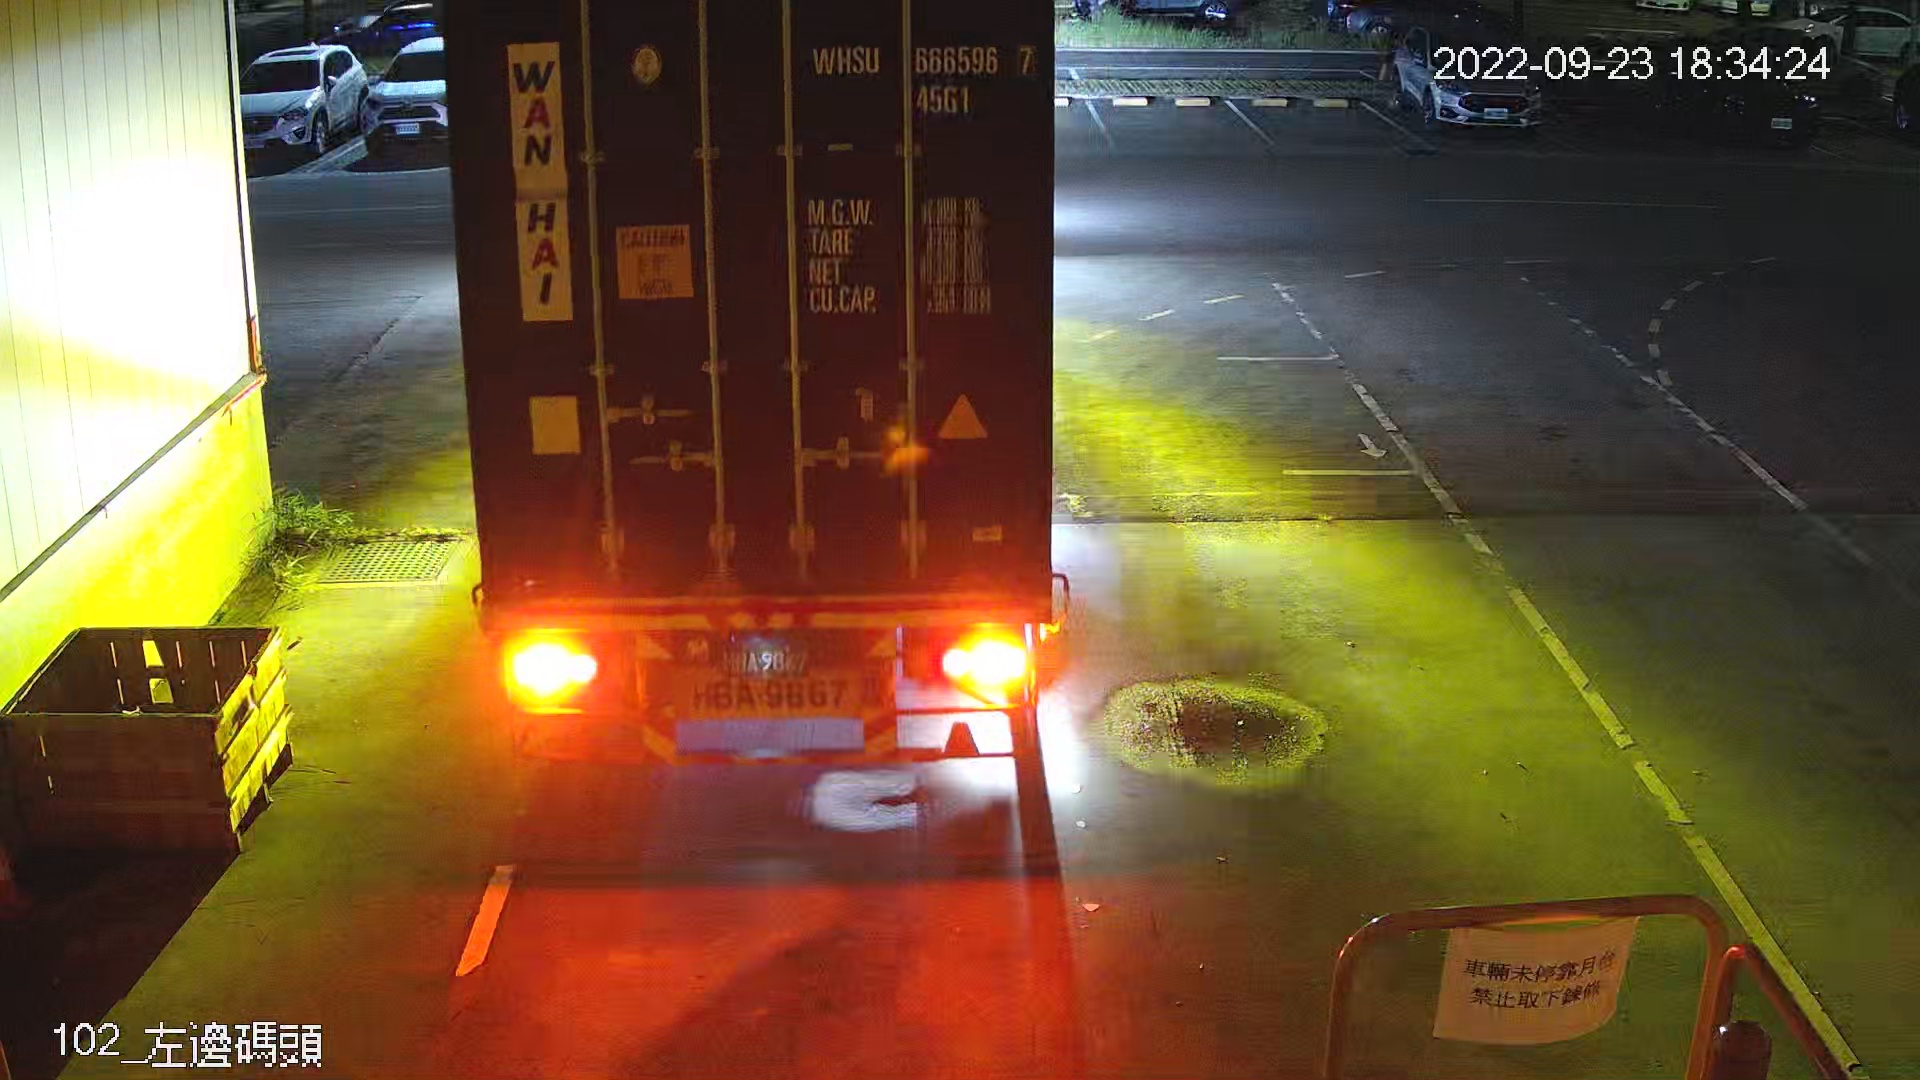container: (800, 33, 1047, 127)
